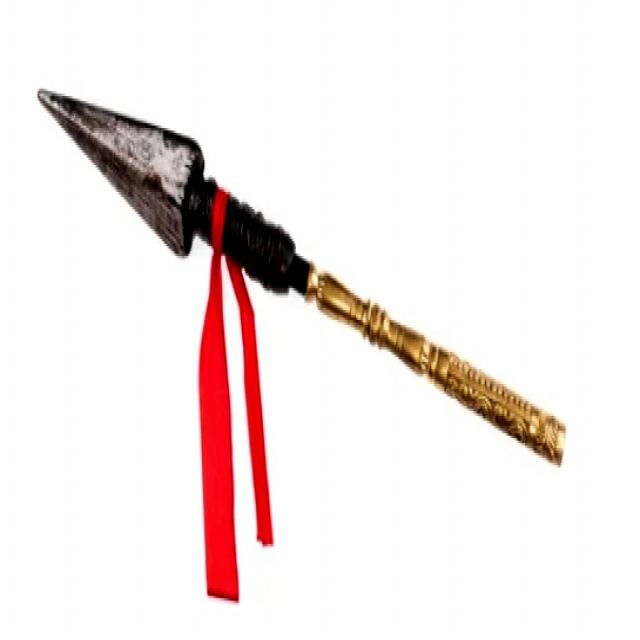spear: (31, 59, 568, 607)
